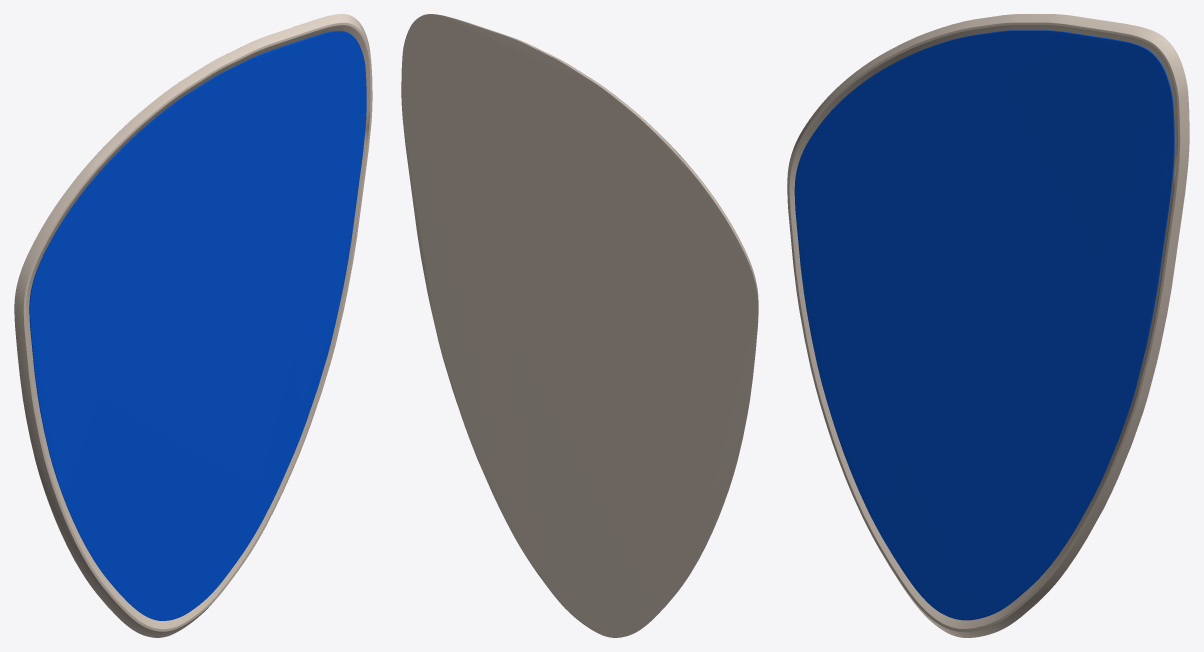
3 views of the same model, side by side, from view 1: azimuth 30°, elevation 25°; view 2: azimuth 150°, elevation 25°; view 3: azimuth 330°, elevation 25° (orthographic). The views are drawn at different scales.
Visible parts, largest first — view 1: mirror, CANVAS; view 2: CANVAS; view 3: mirror, CANVAS.
Boxes of the visible parts, x1=… form: mirror: x1=29, y1=30, x2=366, y2=620; CANVAS: x1=14, y1=14, x2=372, y2=637; CANVAS: x1=401, y1=14, x2=758, y2=637; mirror: x1=794, y1=30, x2=1174, y2=620; CANVAS: x1=787, y1=14, x2=1189, y2=637.
Bounding box in the file's own units: 1.38 × 2.14 × 0.0319.
